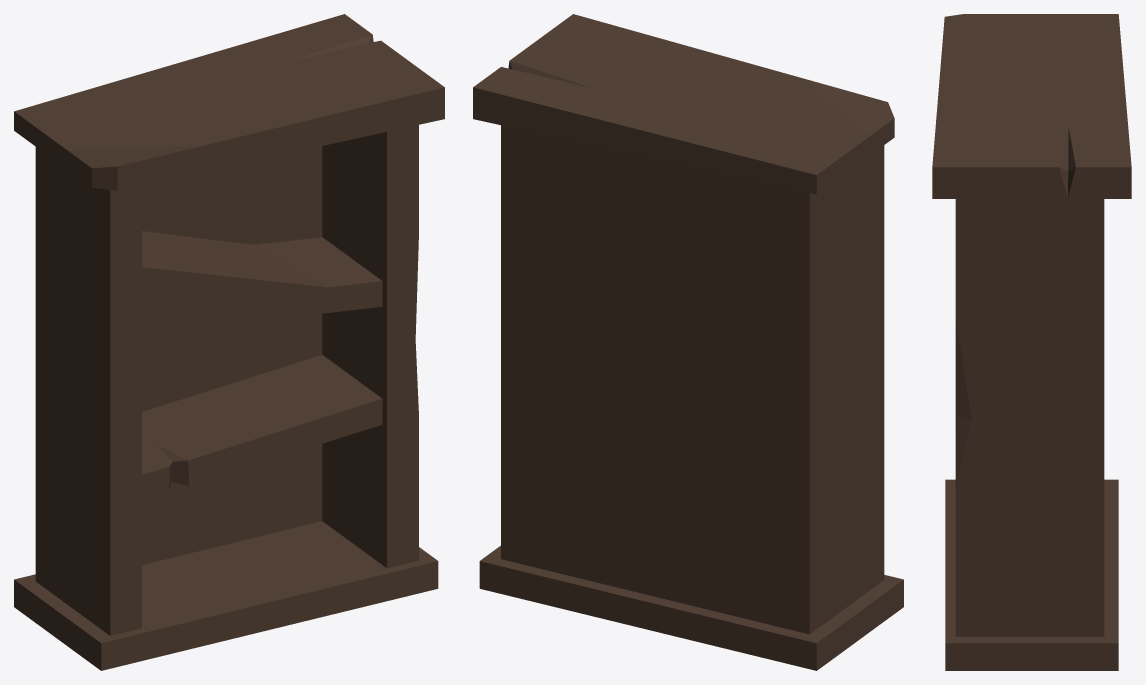
The model's file is bookshelf_2.fbx.
The picture shows the model from 3 angles, left to right: view 1: azimuth 30°, elevation 25°; view 2: azimuth 150°, elevation 25°; view 3: azimuth 270°, elevation 25°; orthographic projection.
Visible parts, largest first — view 1: bookshelf_2; view 2: bookshelf_2; view 3: bookshelf_2.
Part boxes in pixels (left/top/right/bottom): bookshelf_2: left=14, top=14, right=444, bottom=670; bookshelf_2: left=473, top=14, right=903, bottom=670; bookshelf_2: left=932, top=14, right=1131, bottom=670.
Bounding box in the file's own units: 141 × 202 × 72.53.
